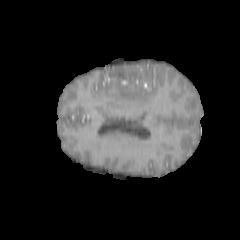glioma: (110, 63, 154, 104)
